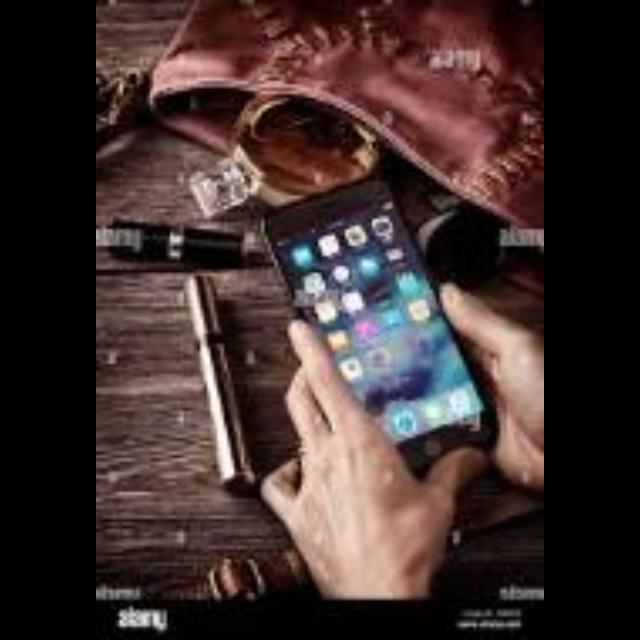phone: (244, 171, 509, 501)
